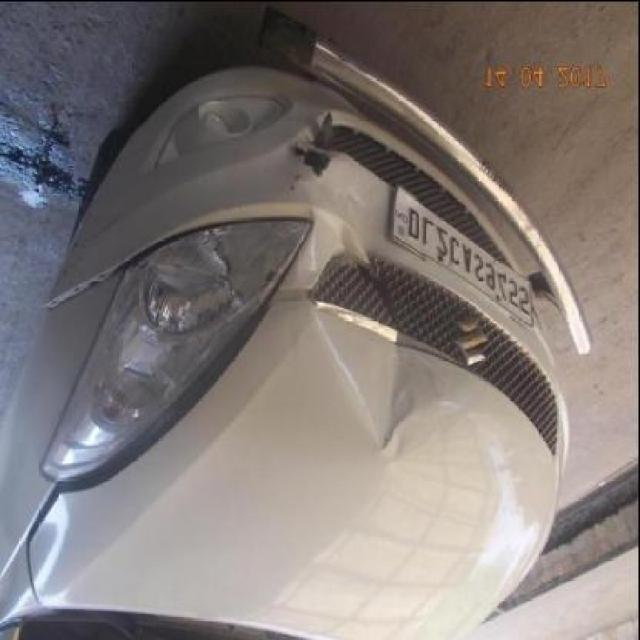damage: (36, 274, 287, 539), (315, 303, 443, 461), (40, 225, 190, 311), (297, 210, 372, 289), (342, 247, 402, 325), (294, 132, 336, 175)
